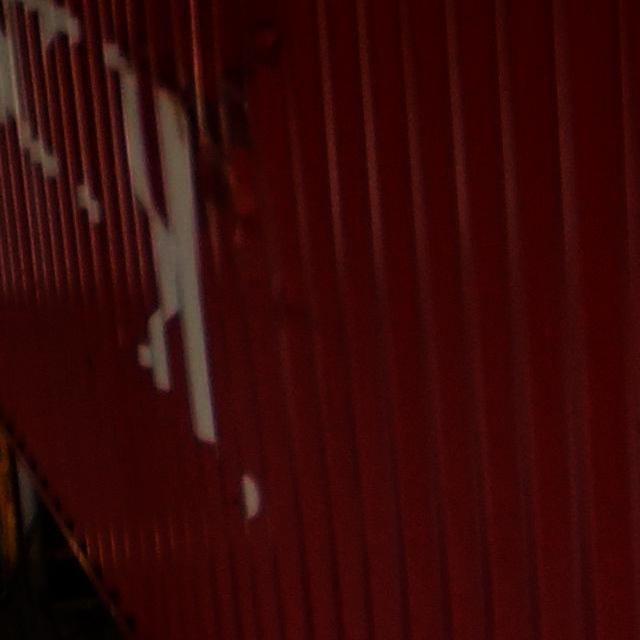rust: (158, 16, 298, 273)
